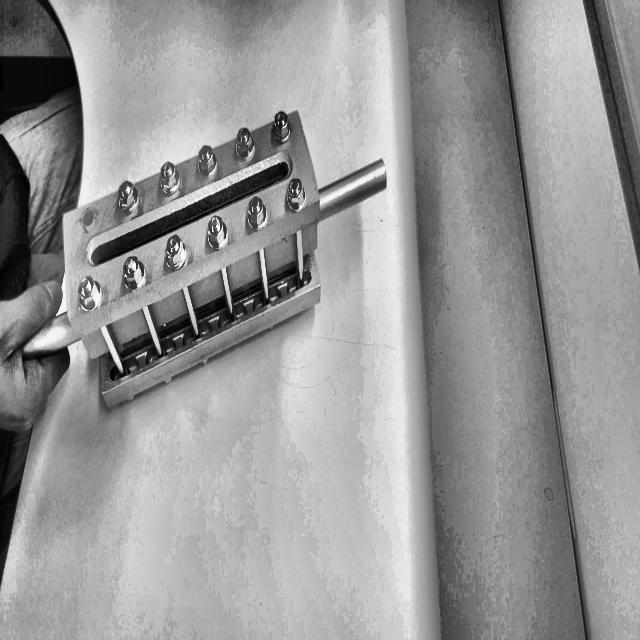ShuiWeiQi_11: (67, 78, 398, 387)
